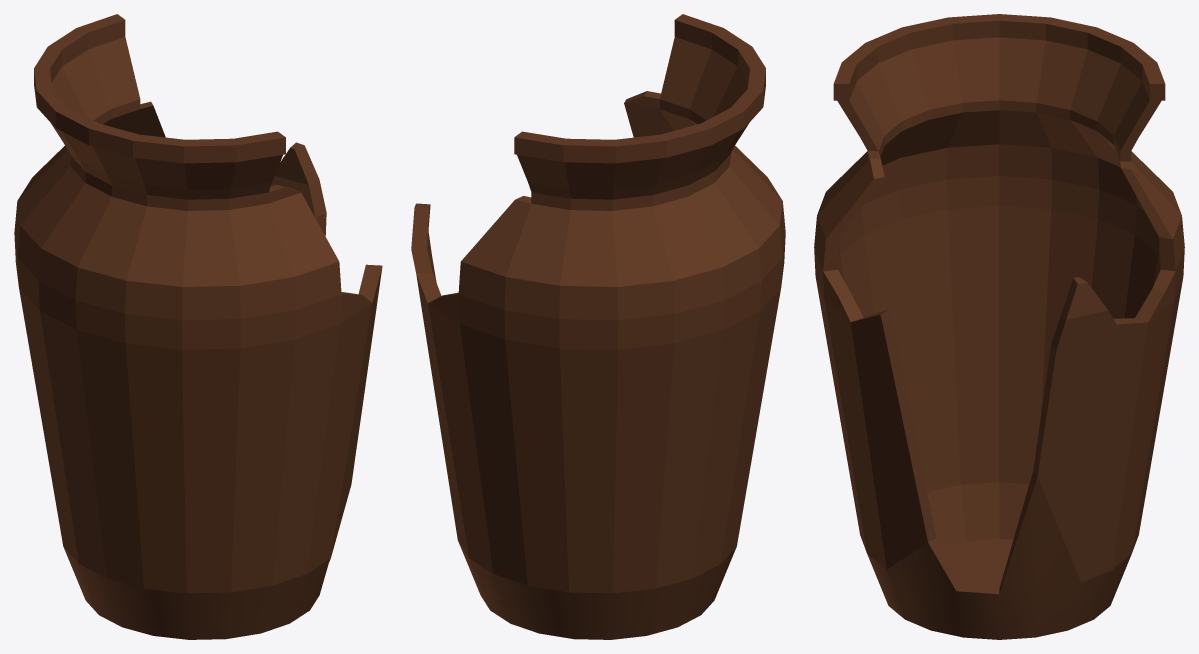
File: TT_Clay_jar_Broken.fbx
3 views of the same model, side by side, from view 1: azimuth 30°, elevation 25°; view 2: azimuth 150°, elevation 25°; view 3: azimuth 270°, elevation 25° (orthographic).
Parts seen in each view (by area): view 1: Old_clay_Jar_broken; view 2: Old_clay_Jar_broken; view 3: Old_clay_Jar_broken.
Boxes of the visible parts, x1,y1,x2,y2 form: Old_clay_Jar_broken: (14,14,382,639); Old_clay_Jar_broken: (411,14,785,639); Old_clay_Jar_broken: (814,14,1184,639).
Size of the model in its own units: 61.62 by 95.59 by 63.41.
